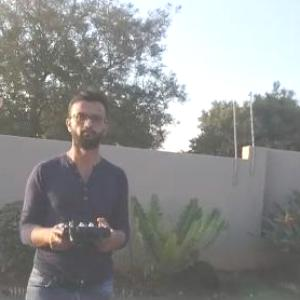follow: (15, 74, 140, 299)
